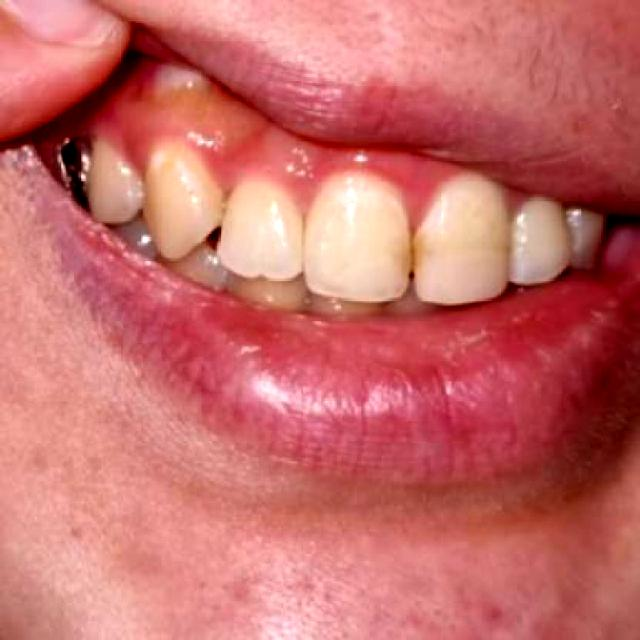Plaque: (155, 140, 189, 187)
